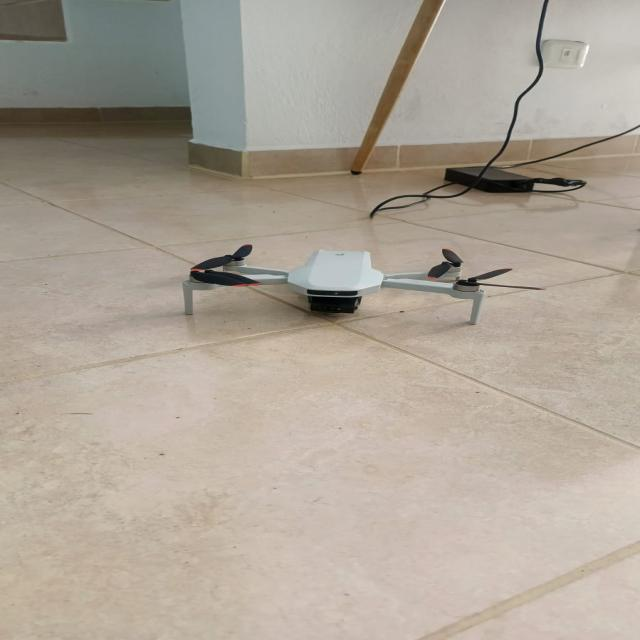dron: (140, 232, 554, 352)
